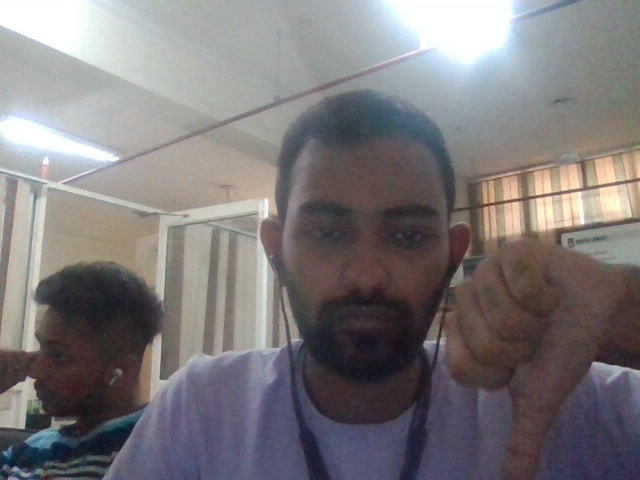No: (443, 233, 621, 480)
